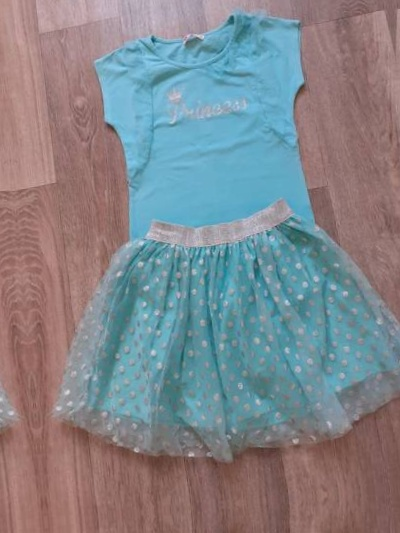Dress: (22, 8, 400, 484), (0, 48, 18, 524), (73, 522, 400, 533)
